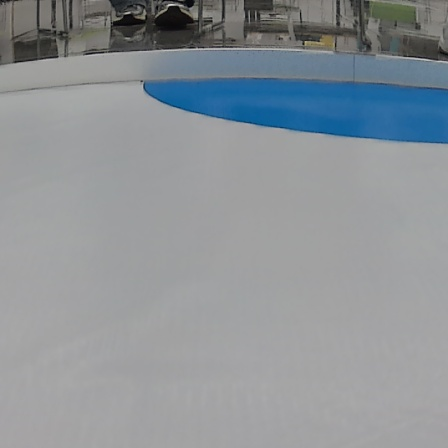blue_base: (145, 77, 448, 145)
